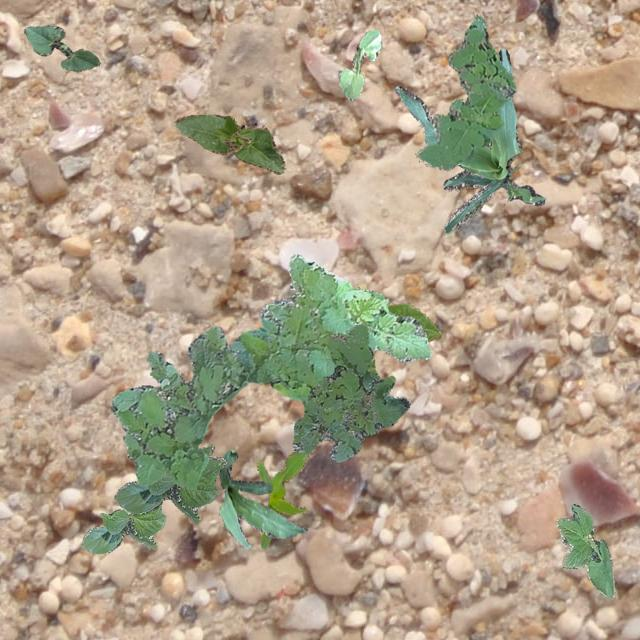crop: (394, 48, 544, 232), (112, 444, 225, 524), (218, 448, 306, 548), (174, 114, 284, 172), (556, 502, 614, 598), (256, 450, 310, 548), (80, 505, 166, 553), (22, 24, 98, 70), (336, 29, 379, 100), (386, 303, 439, 342)
weed: (110, 252, 430, 488), (292, 322, 408, 460), (416, 14, 514, 170)
